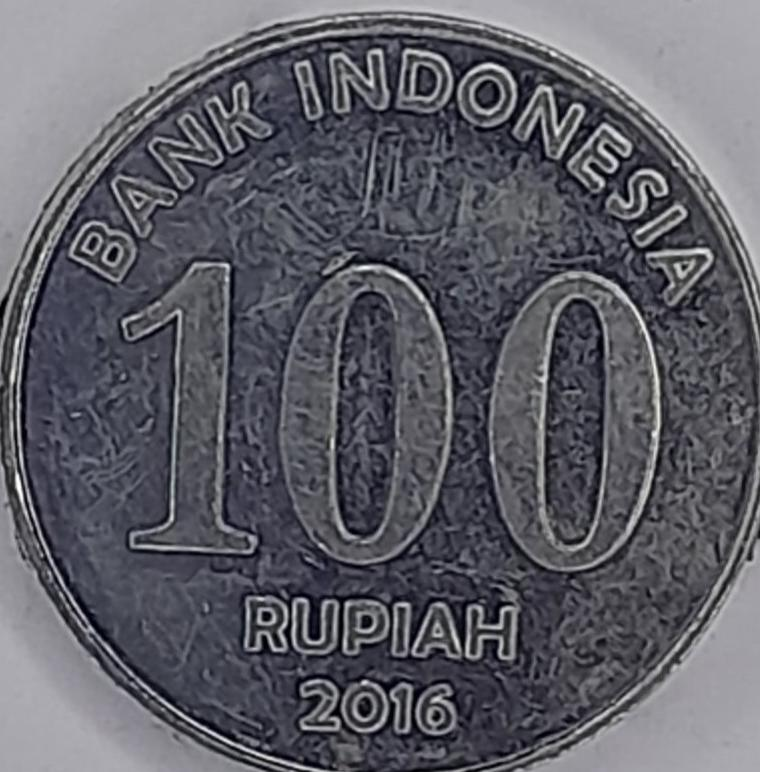coin_100_e2016: (0, 3, 759, 771)
